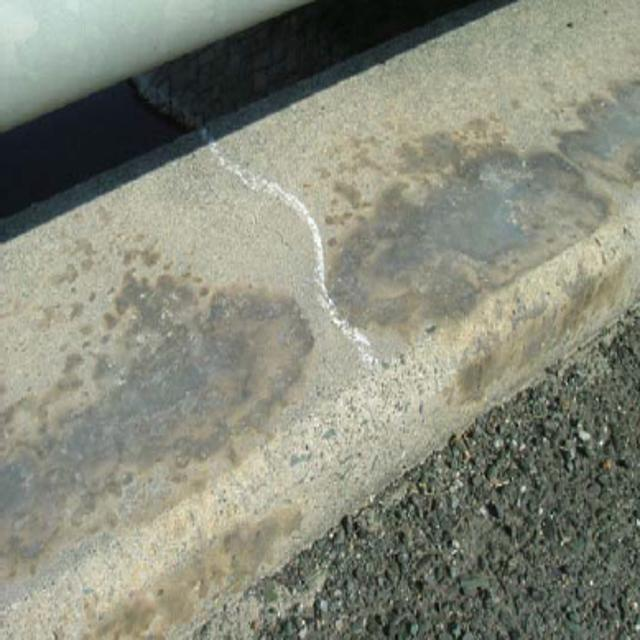crack: (191, 127, 396, 389)
